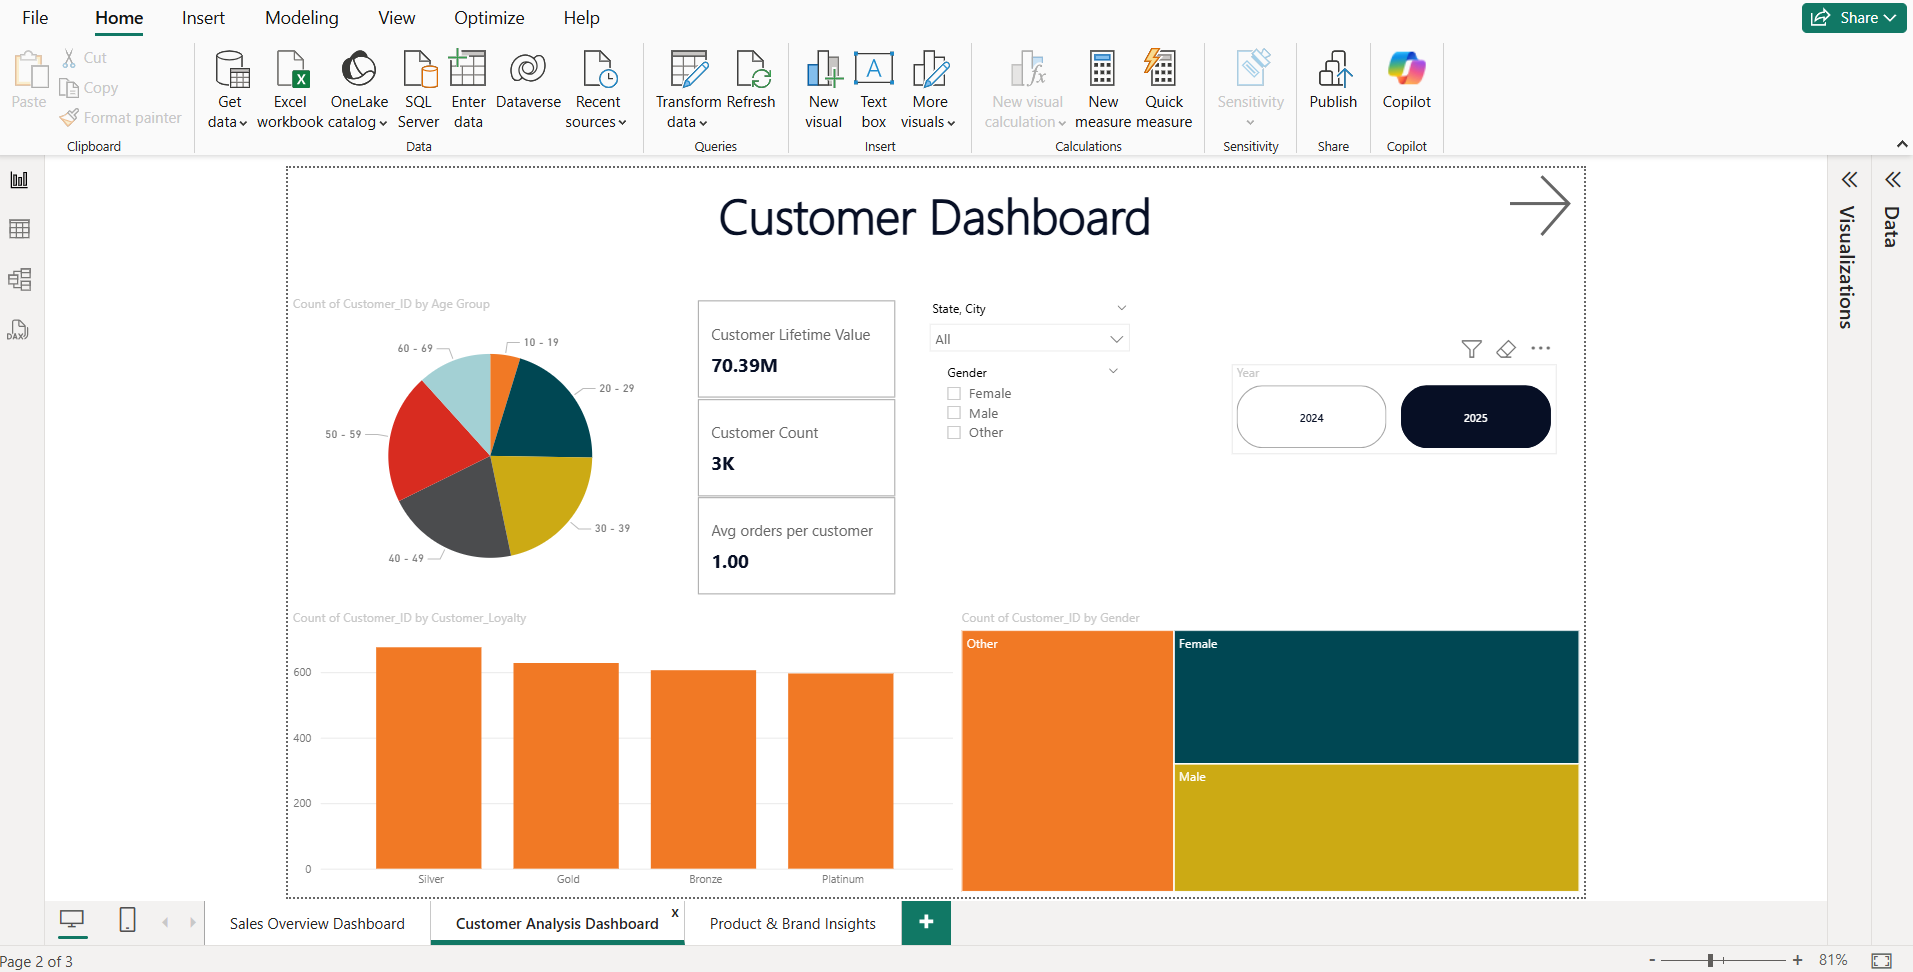

What the dashboard file says about the page in this screenshot:
{"tool":"powerbi","page":{"name":"Customer Analysis Dashboard","canvas":[1280,720],"ordinal":1},"visuals":[{"type":"columnChart","fields":{"Category":["Order.Customer_Loyalty"],"Y":["CountNonNull(Customer.Customer_ID)"]},"box":[0,435.9,662,284.4],"z":0},{"type":"treemap","fields":{"Group":["Customer.Gender"],"Values":["CountNonNull(Customer.Customer_ID)"]},"box":[660.5,436.2,620,284.2],"z":1000},{"type":"pieChart","fields":{"Y":["CountNonNull(Customer.Customer_ID)"],"Series":["Customer.Age Group"]},"box":[0,126.2,400,301.2],"z":2000},{"type":"cardVisual","fields":{"Data":["Order.Customer Lifetime Value","Order.Customer Count","Order.Avg orders per customer"]},"box":[400,126.2,205,301.2],"z":4000},{"type":"slicer","fields":{"Values":["Customer.Gender"]},"box":[638.3,188.3,194.4,238.5],"z":5000},{"type":"textbox","box":[411.2,8.8,456.2,92.5],"z":6000},{"type":"slicer","fields":{"Values":["Customer.State Hierarchy.State","Customer.State Hierarchy.City"]},"box":[623.6,126,217.7,112.5],"z":7000},{"type":"advancedSlicerVisual","fields":{"Values":["DateTable.Year"]},"box":[931.8,194.4,321.6,88],"z":8000},{"type":"actionButton","box":[1199.3,0,80.7,74.5],"z":10000}]}

Visuals, with their boxes on the page's 1280x720 design canvas (x1, y1, x2, y2). These are canvas units, not pixel positions in the 1913x972 screenshot, which may show the page scaled, cropped or inside an application window:
columnChart - Order.Customer_Loyalty x CountNonNull(Customer.Customer_ID): 0 436 662 720
treemap - Customer.Gender x CountNonNull(Customer.Customer_ID): 660 436 1280 720
pieChart - CountNonNull(Customer.Customer_ID) x Customer.Age Group: 0 126 400 427
cardVisual - Order.Customer Lifetime Value x Order.Customer Count: 400 126 605 427
slicer - Customer.Gender: 638 188 833 427
textbox: 411 9 867 101
slicer - Customer.State Hierarchy.State x Customer.State Hierarchy.City: 624 126 841 238
advancedSlicerVisual - DateTable.Year: 932 194 1253 282
actionButton: 1199 0 1280 74
